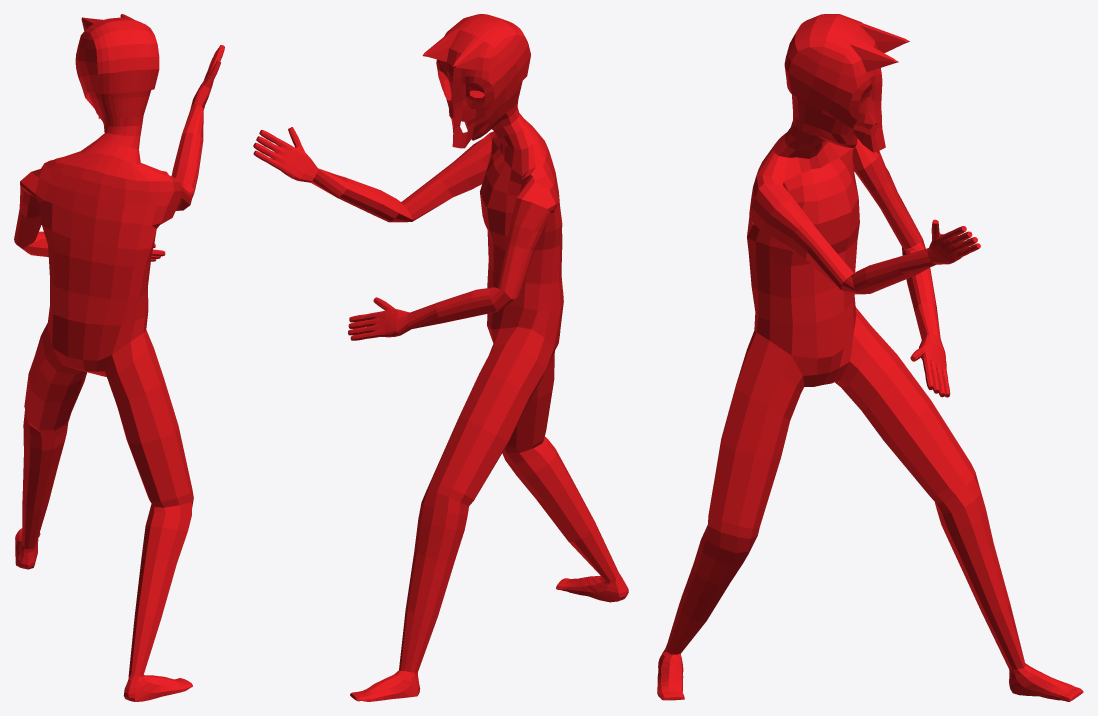
File: activaAlarma_000069.obj
3 renders of one model, left to right at view 1: azimuth 30°, elevation 25°; view 2: azimuth 150°, elevation 25°; view 3: azimuth 270°, elevation 25°, orthographic. The views are drawn at different scales.
Visible parts, largest first — view 1: Plane.002_Plane.001; view 2: Plane.002_Plane.001; view 3: Plane.002_Plane.001.
Boxes of the visible parts, x1,y1,x2,y2 form: Plane.002_Plane.001: (14, 14, 224, 701); Plane.002_Plane.001: (253, 14, 628, 701); Plane.002_Plane.001: (657, 14, 1083, 701).
Bounding box in the file's own units: 2.82 × 6.71 × 3.79.
